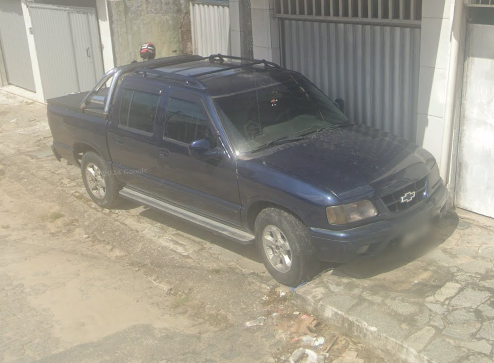car: (46, 44, 448, 288)
